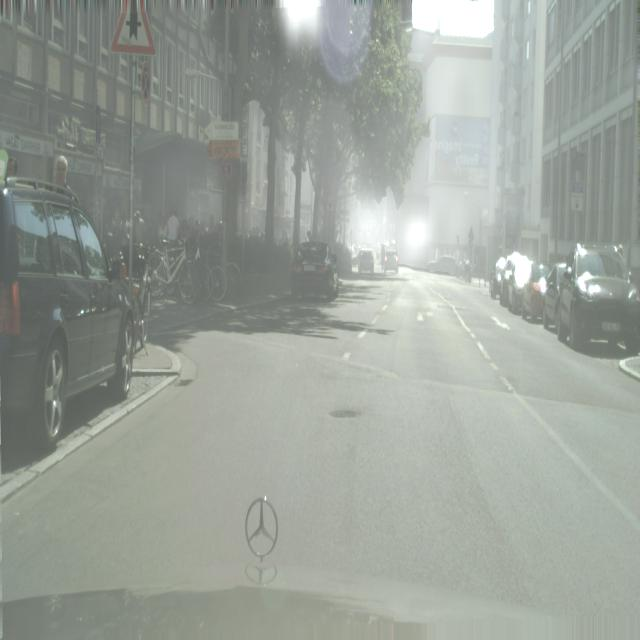car: (145, 238, 196, 305)
person: (167, 206, 180, 241), (158, 212, 168, 241)
truck: (1, 161, 136, 449), (555, 243, 640, 355), (291, 241, 339, 301), (521, 261, 549, 323), (502, 255, 532, 312), (542, 262, 566, 331), (490, 256, 506, 300), (380, 240, 399, 277), (426, 256, 459, 276), (358, 249, 375, 278)
